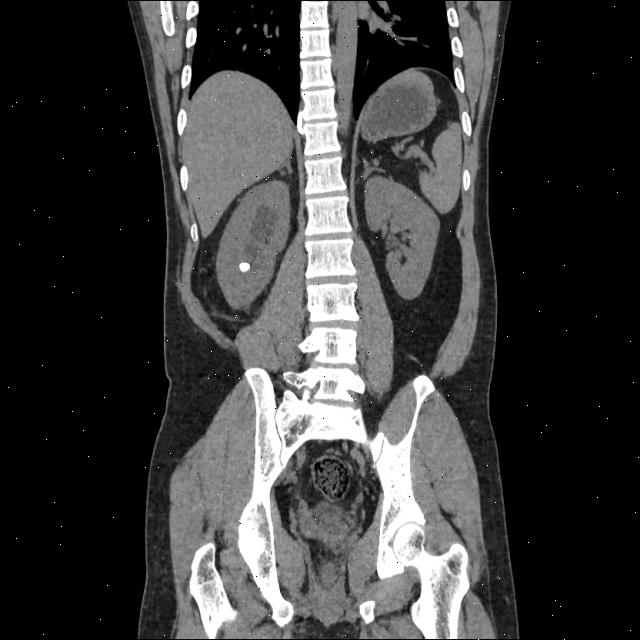kidneystone: (239, 262, 250, 273)
